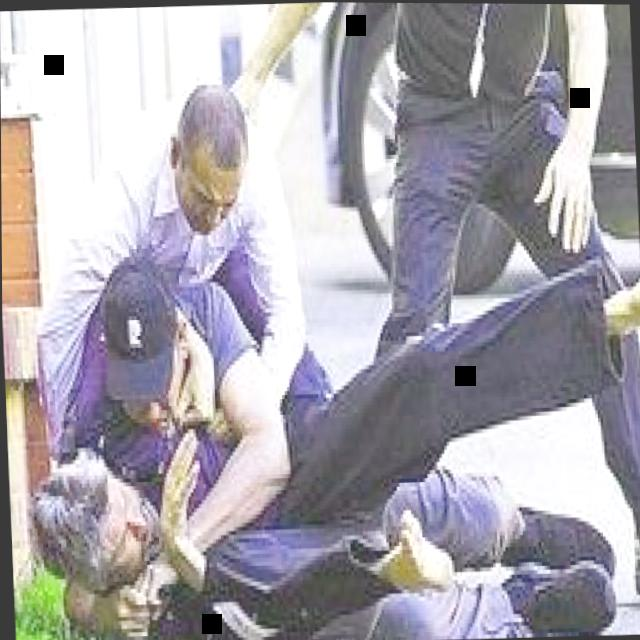Fall-Detected: (39, 210, 637, 640)
